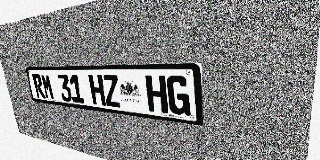1: (68, 74, 84, 103)
3: (57, 74, 73, 102)
G: (166, 75, 191, 116)
H: (145, 75, 168, 113), (88, 74, 106, 106)
M: (40, 74, 55, 100)
R: (32, 74, 45, 99)
Z: (102, 75, 121, 108)
